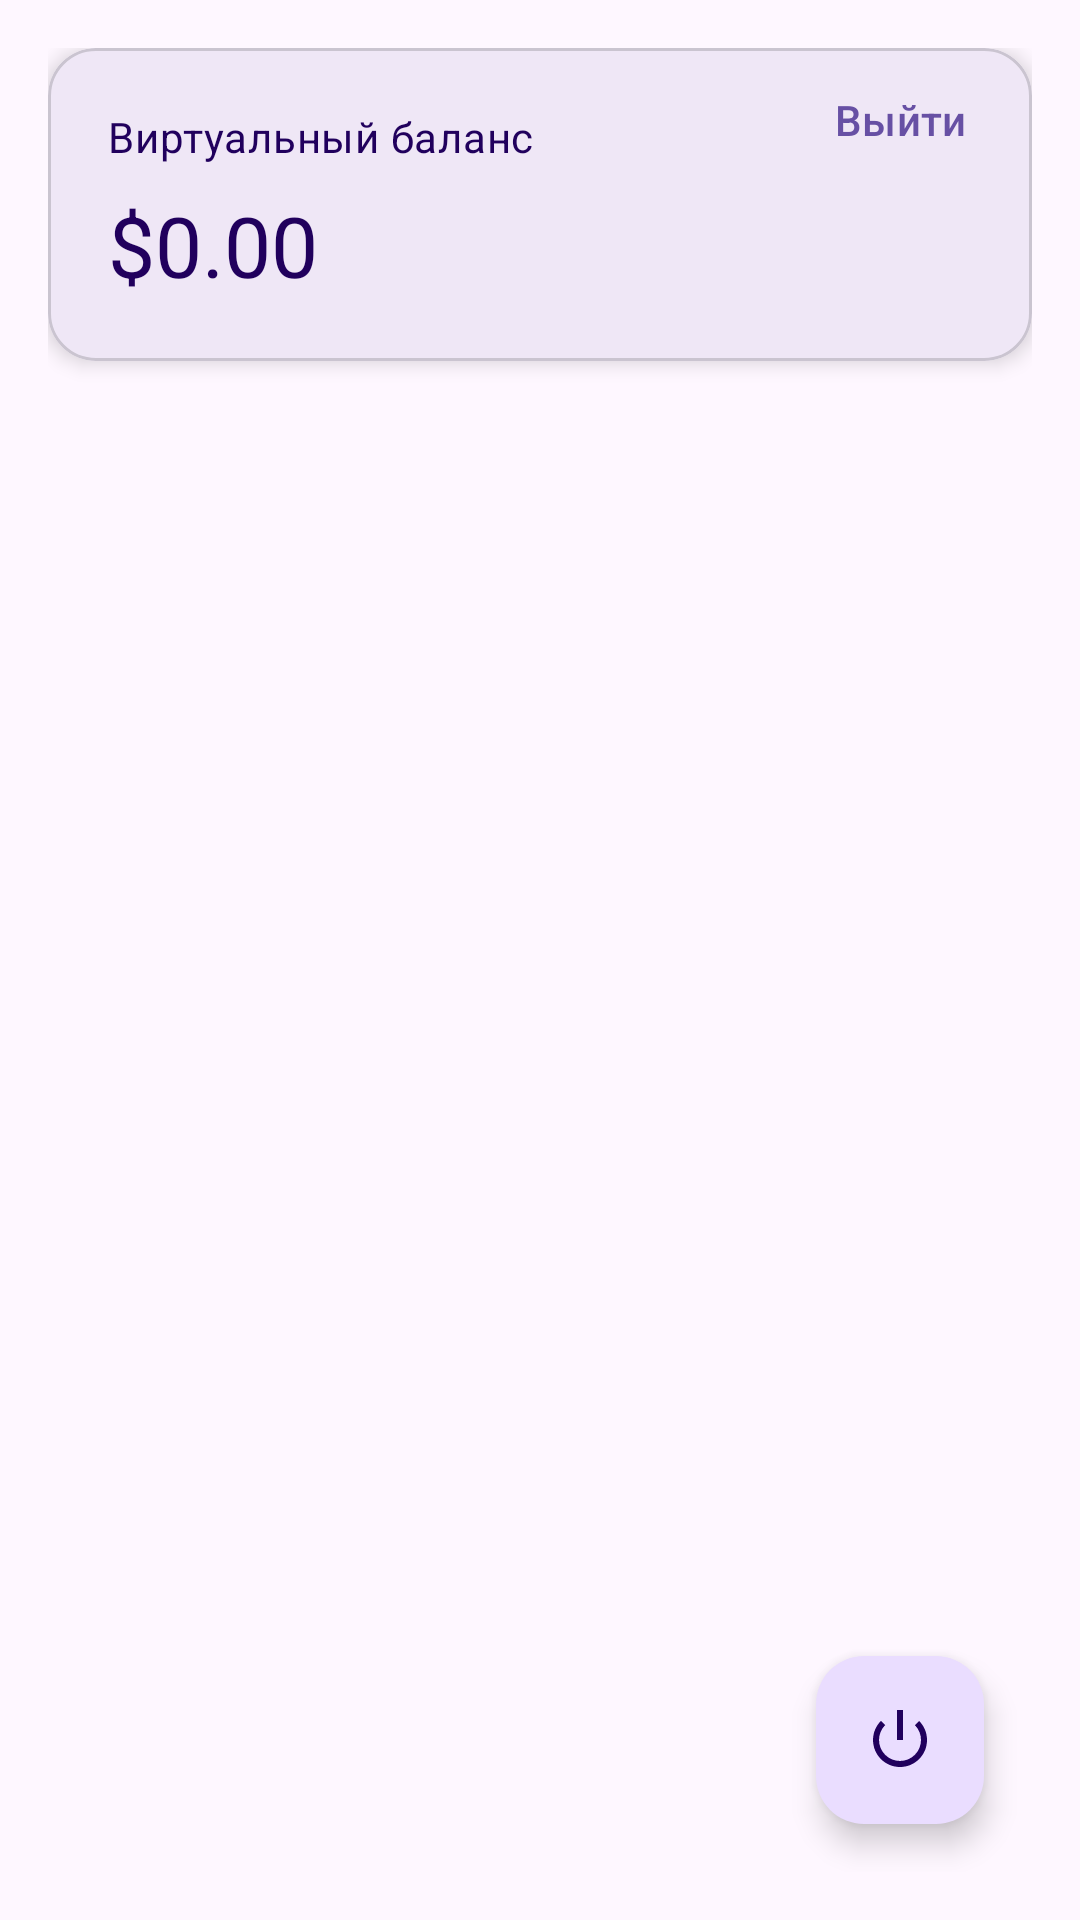

Point at icon controls on the screen. Image size 1080 × 1920, points as (x=x, y=y).
Выйти: (x=900, y=1740)
